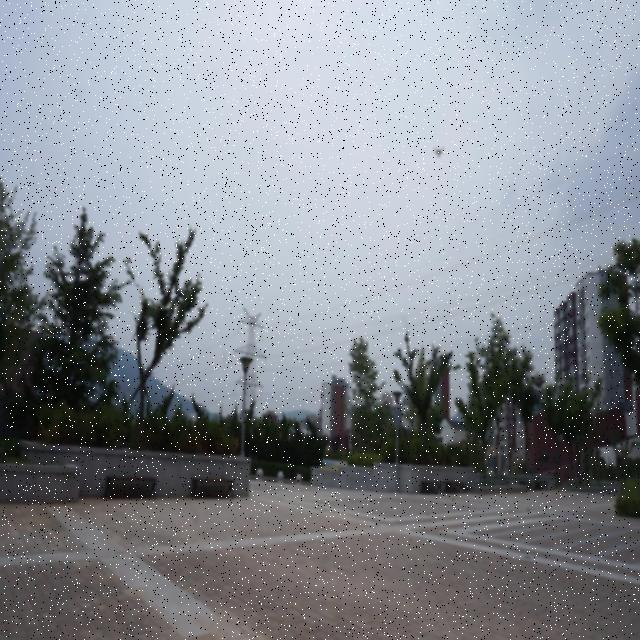UAV: (432, 147, 446, 159)
